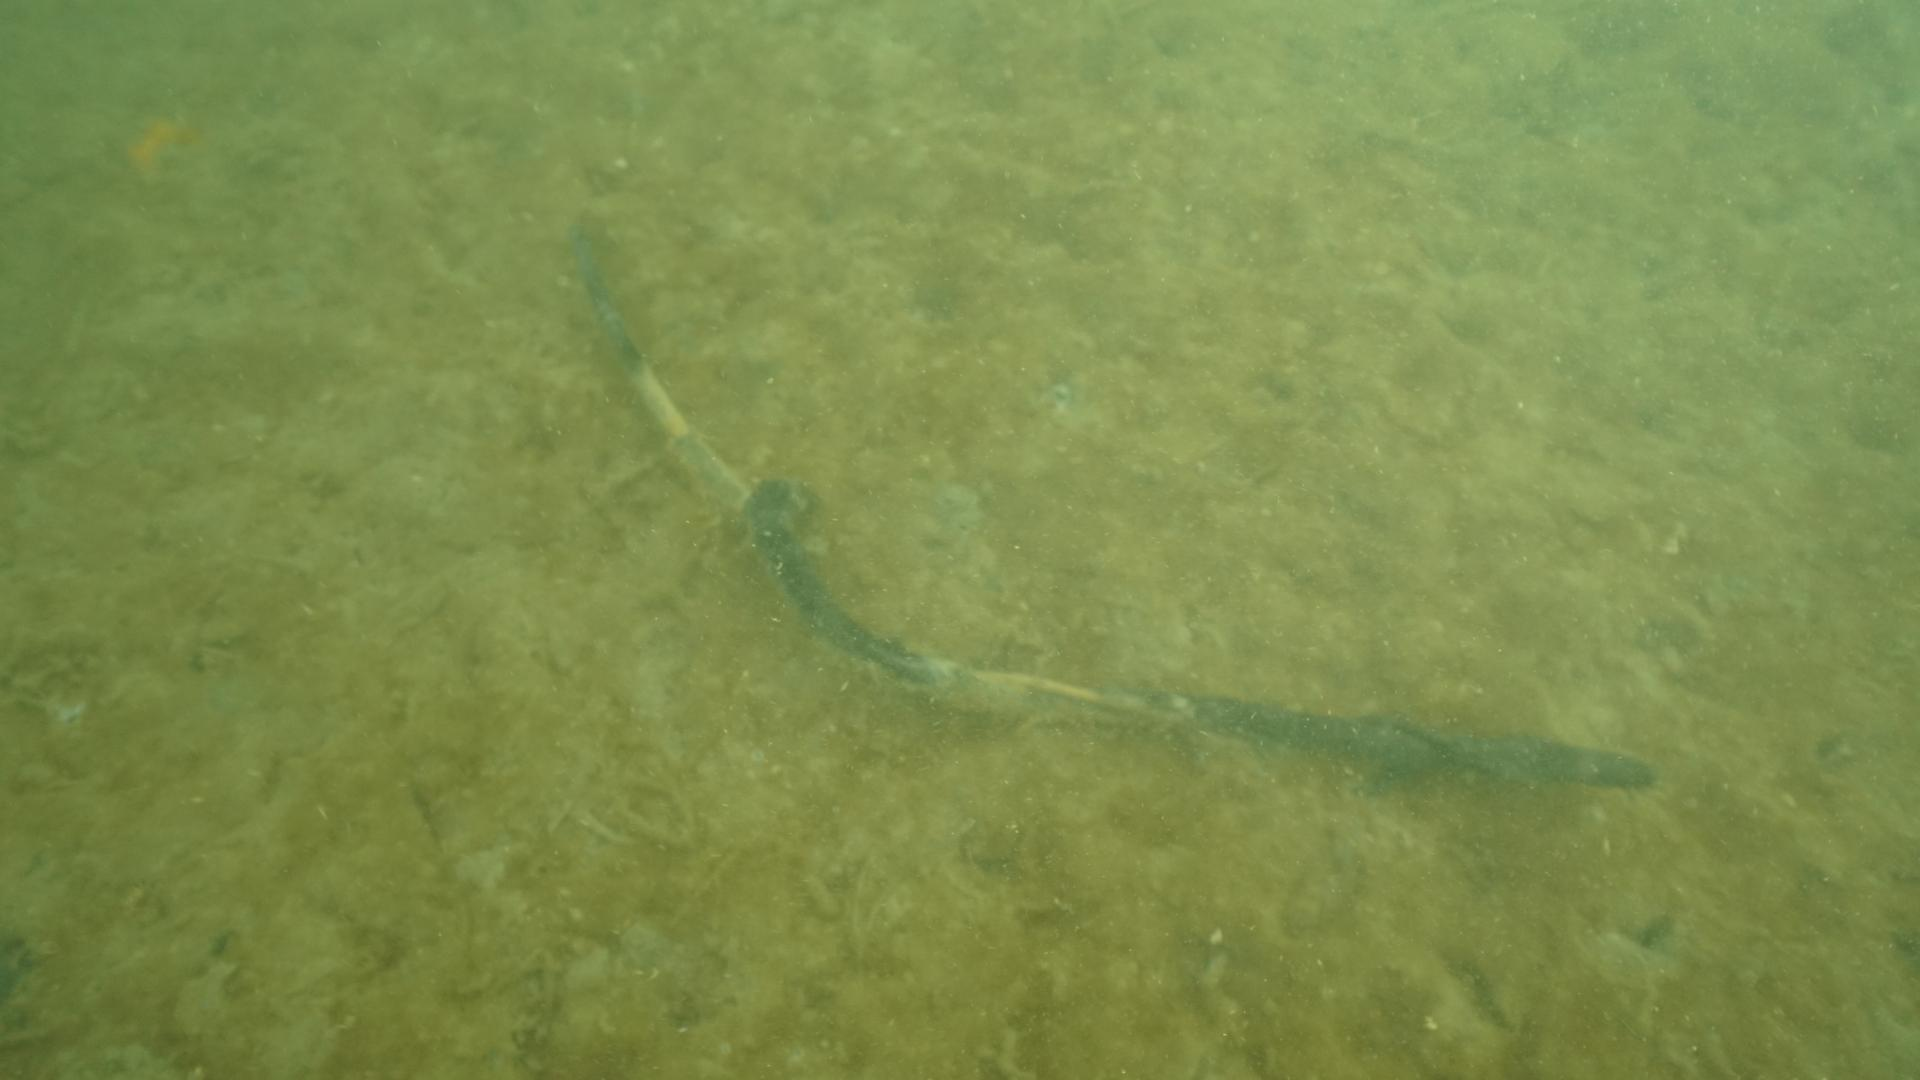wood: (563, 220, 1654, 789)
